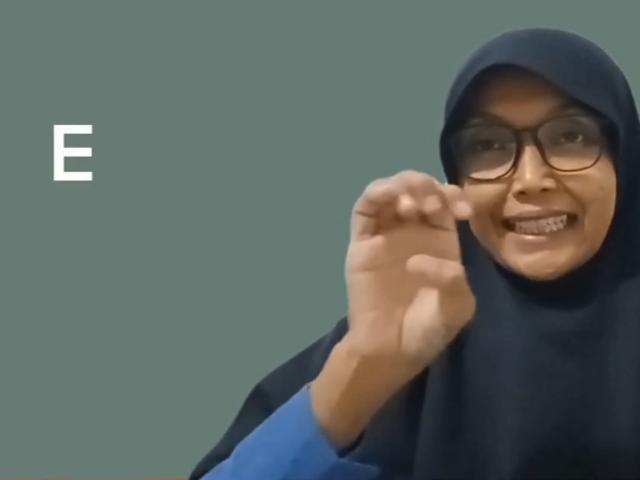E: (342, 167, 480, 363)
